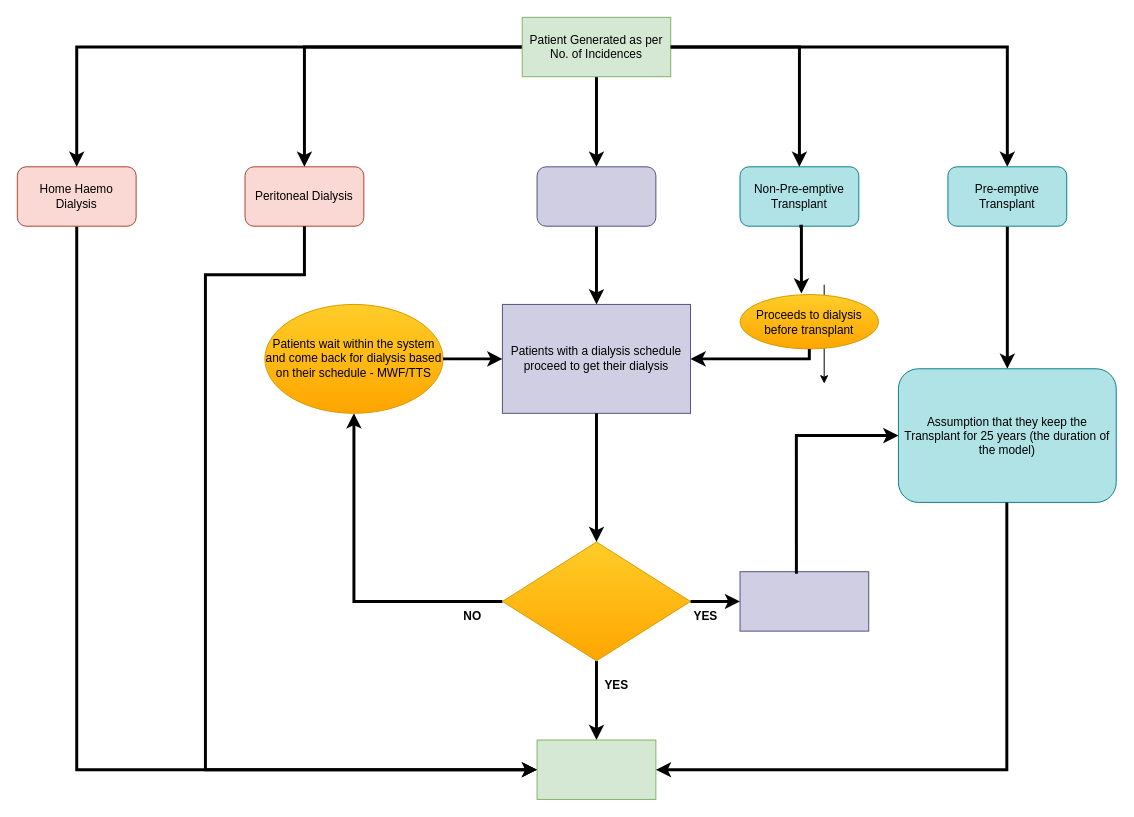
Image size: 1134x817. Some labels were removed from this diagram. The shapes that lost their labels are listed below. From the top down, each one's centre as x and y in pixels, then its label:
At (596,196): "In-Centre Haemo Dialysis".
At (596,601): "Check if reached max no. of sessions?".
At (804,601): "Cadaver/Non-pre-emptive Patient Receives Transplant".
At (596,769): "Exit the system".
